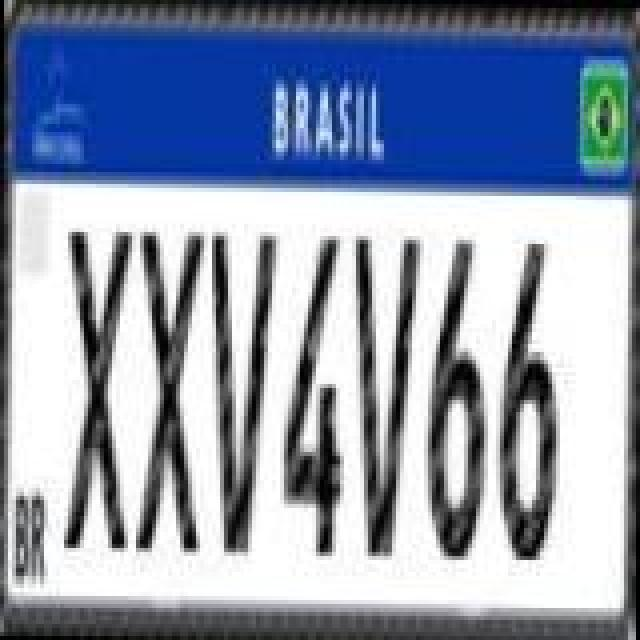4: (280, 228, 348, 560)
6: (420, 230, 488, 562), (492, 234, 560, 566)
V: (206, 228, 278, 556), (348, 232, 416, 560)
X: (128, 224, 204, 556), (58, 222, 130, 554)
